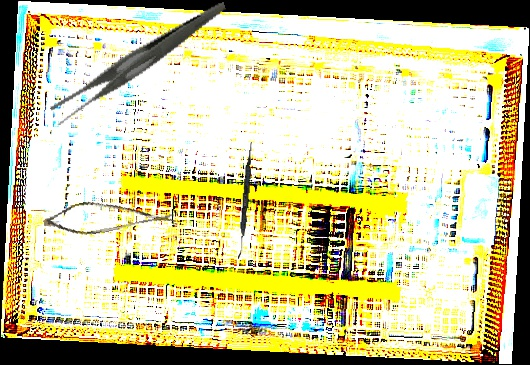Dressing Forceps: (35, 2, 244, 126)
Micro Scissor: (41, 182, 178, 251)
Spatula Surgical: (237, 141, 254, 260)
